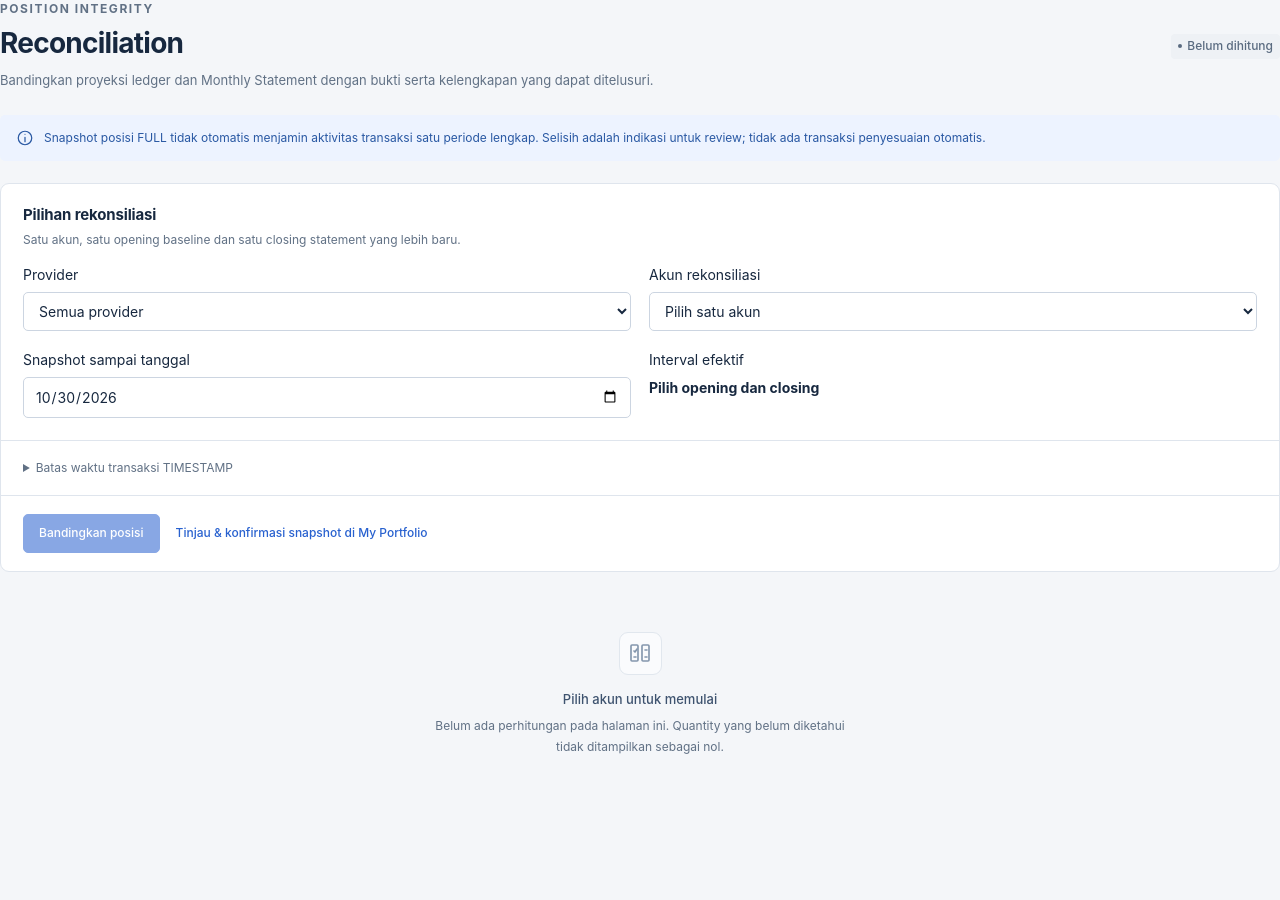
Test case: binds a deliberate coverage confirmation to the server input version and all evidence references
Step 1. Select "DEMO Stocks" in the dropdown labelled "Akun rekonsiliasi" → [953, 311], box x1=649 y1=292 x2=1257 y2=331
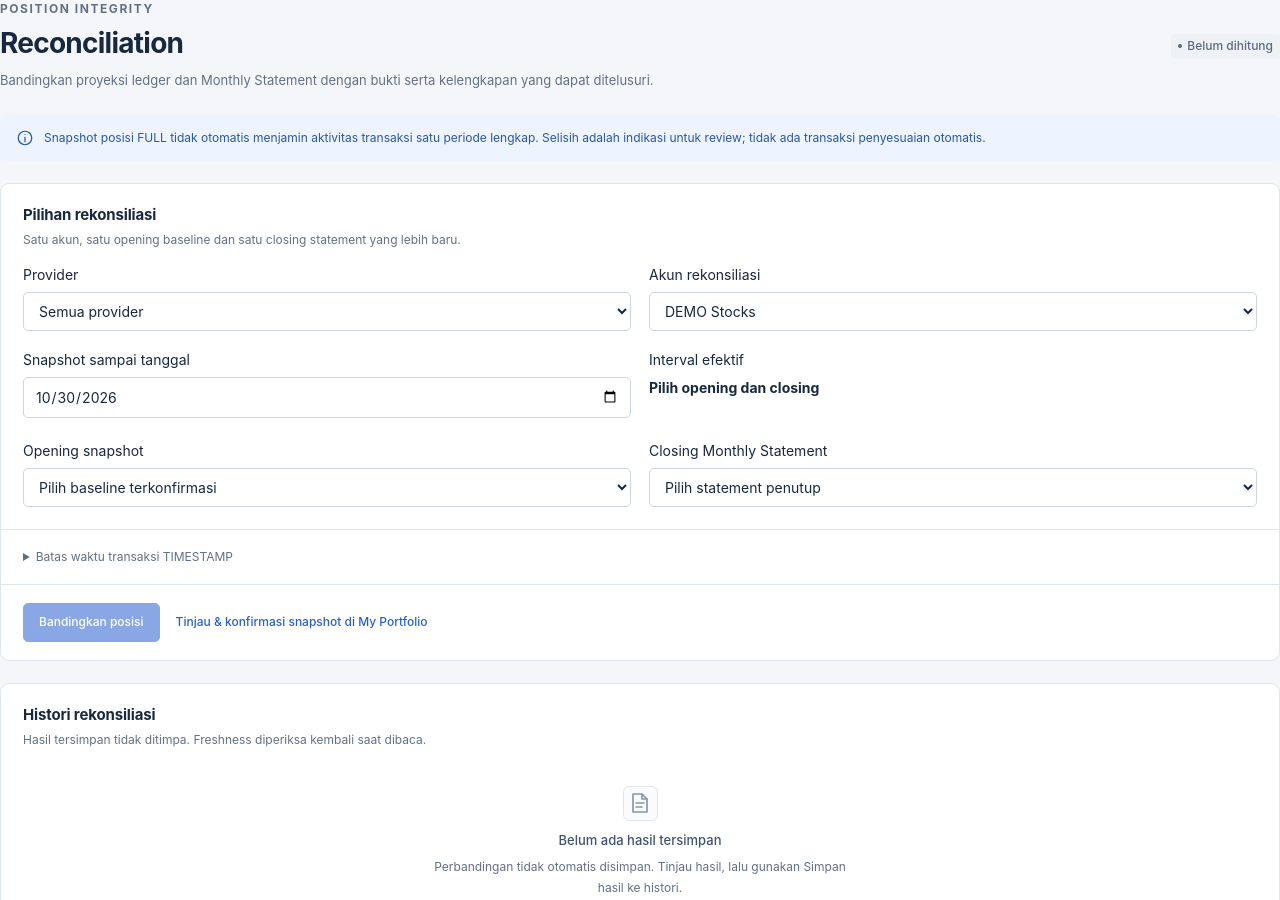
Now the dropdown labelled "Opening snapshot" is shown
Step 2. Select "#11 · 31 Jan 2020 · FULL · CONFIRMED" in the dropdown labelled "Opening snapshot" → [327, 487], box x1=23 y1=468 x2=631 y2=507
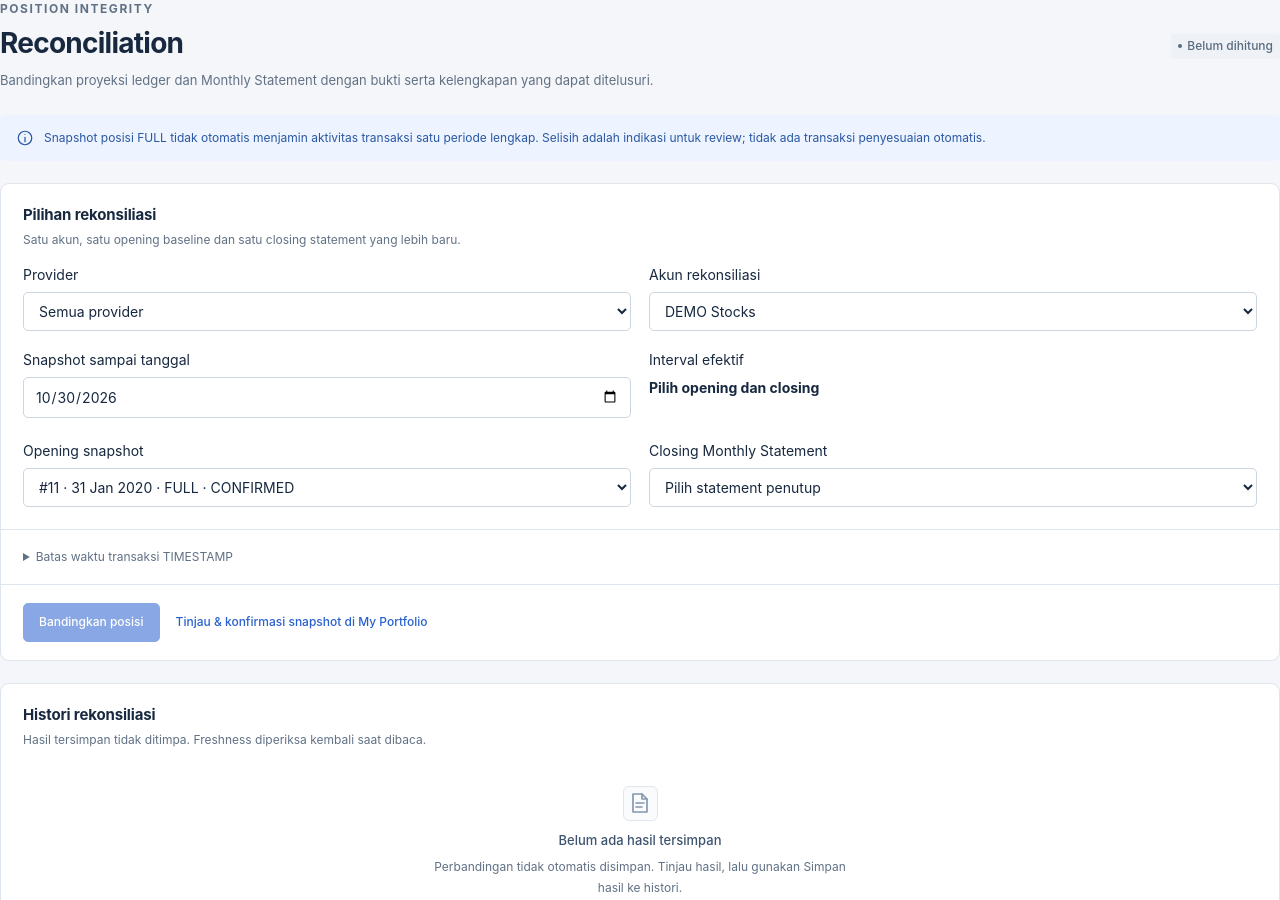
Step 3. Select "#12 · 29 Feb 2020 · FULL · CONFIRMED" in the dropdown labelled "Closing Monthly Statement" → [953, 487], box x1=649 y1=468 x2=1257 y2=507
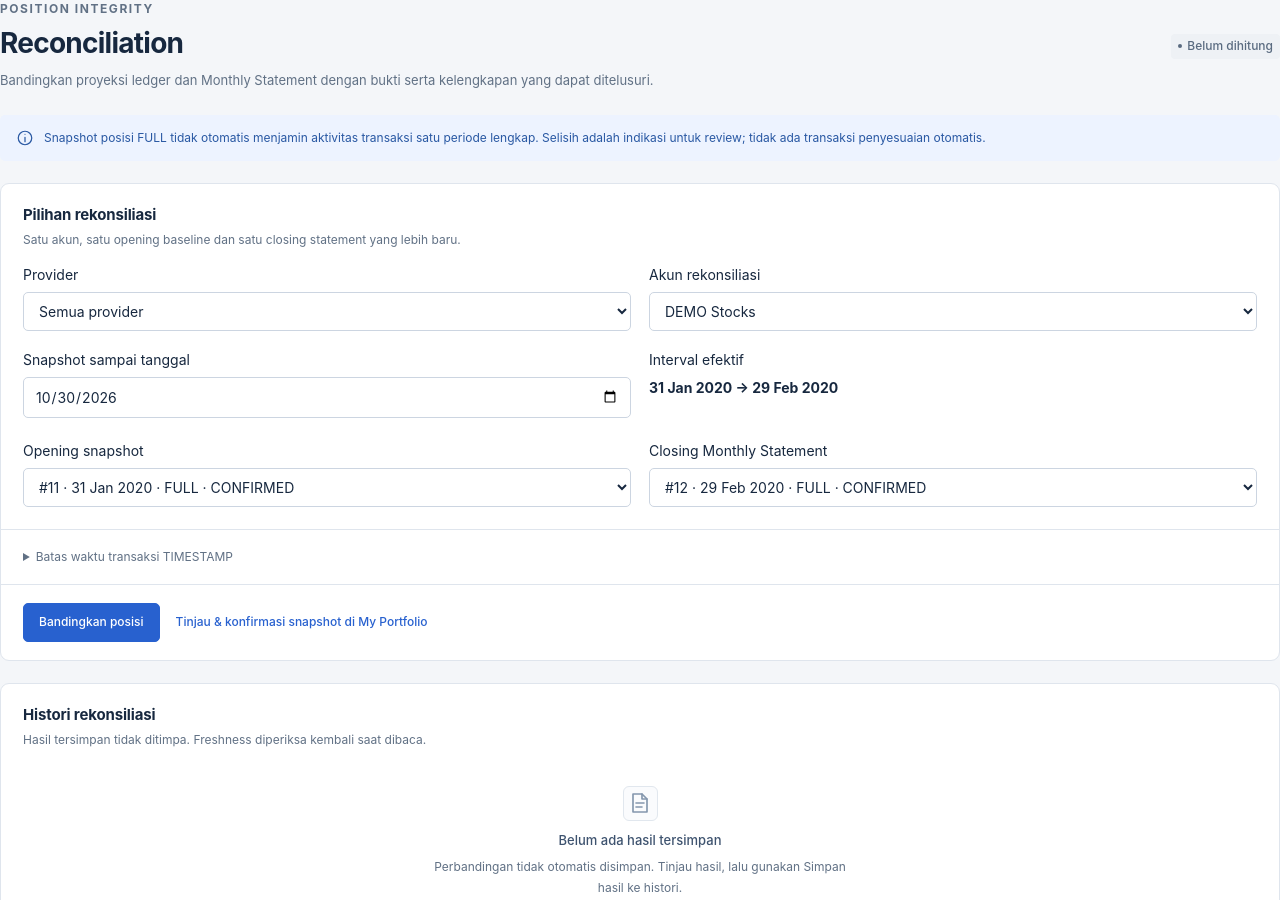
Step 4. Click the button "Bandingkan posisi" → [91, 622], box x1=23 y1=603 x2=160 y2=642
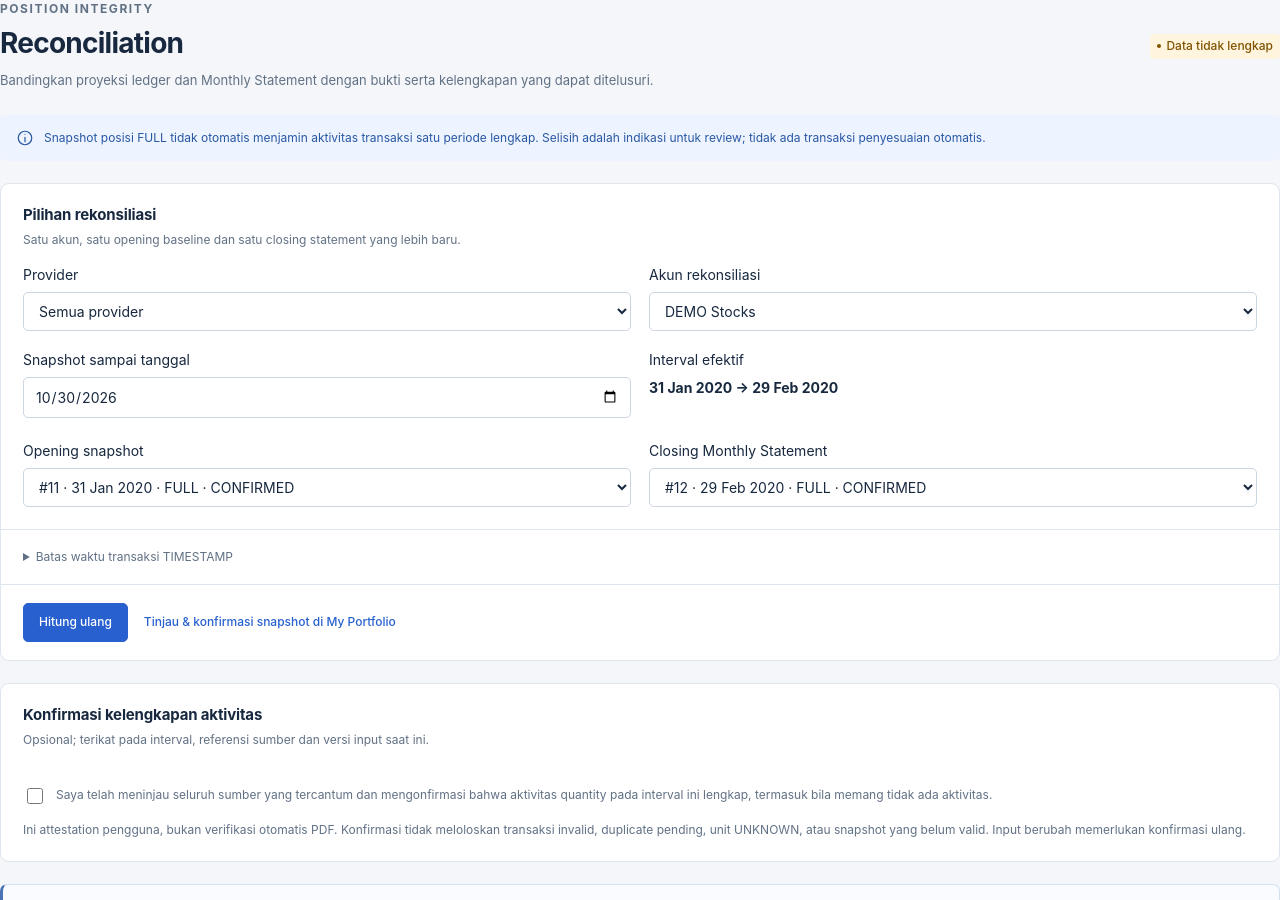
Step 5. Click the checkbox labelled "Saya telah meninjau seluruh sumber" → [35, 796], box x1=27 y1=788 x2=43 y2=804
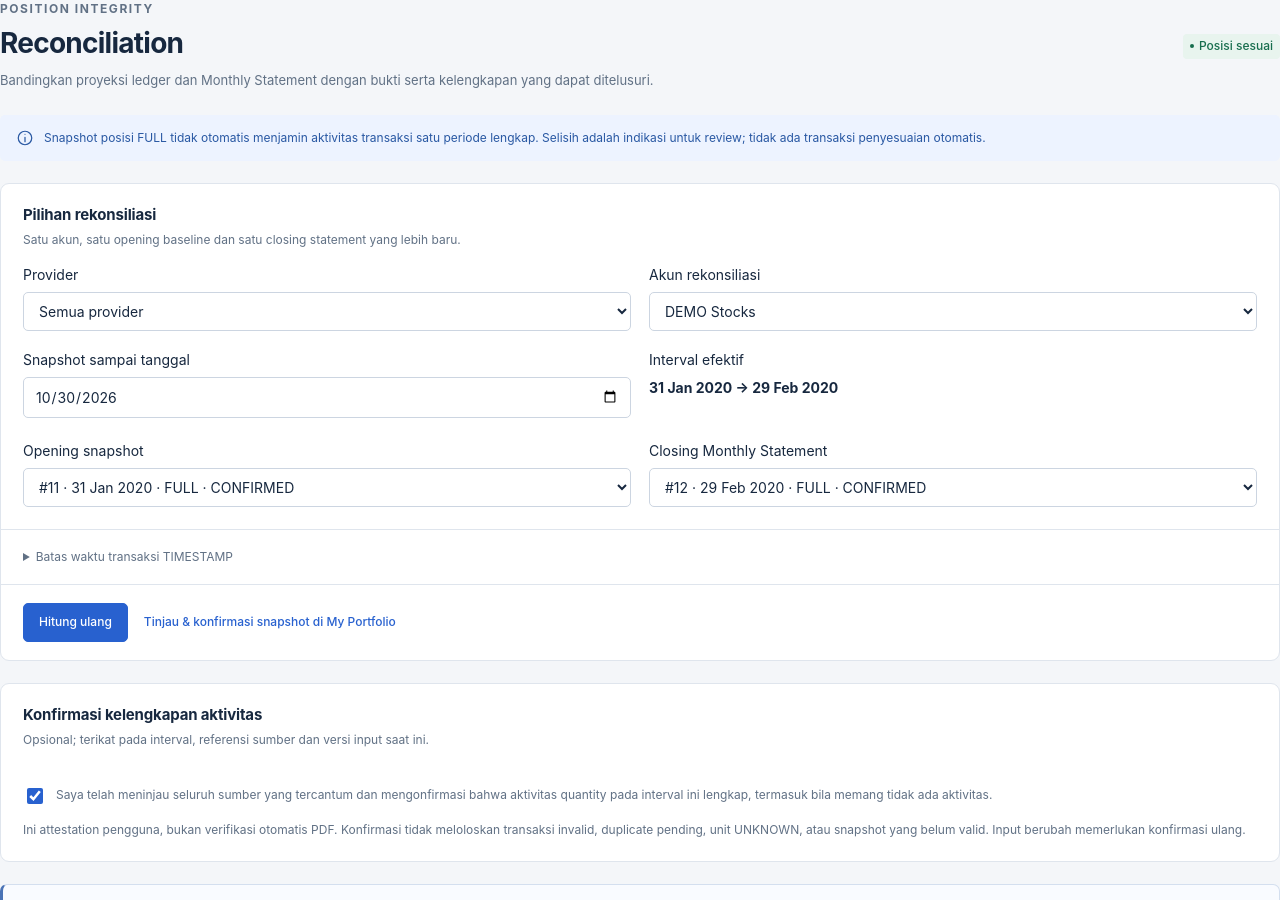
Now the checkbox labelled "Saya telah meninjau seluruh sumber" is checked, box x1=27 y1=788 x2=43 y2=804
